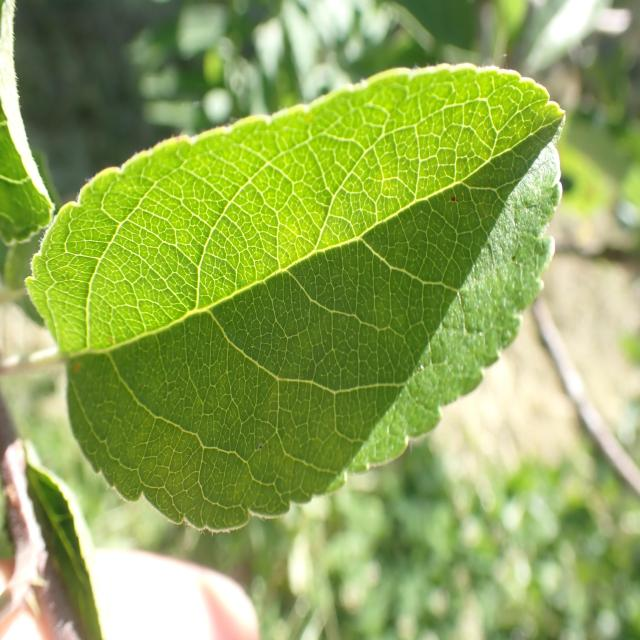healthy: (26, 62, 567, 534), (0, 1, 56, 246)
